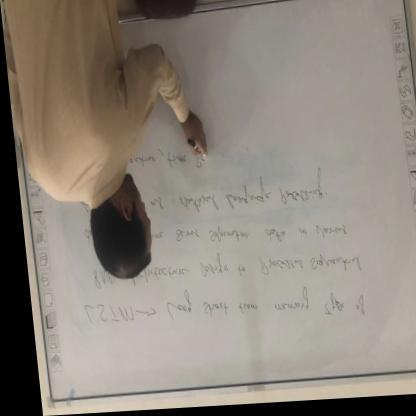Handwritten text: (75, 285, 366, 336), (164, 173, 331, 229), (167, 220, 349, 259), (189, 250, 361, 286)
Lecturer: (8, 0, 179, 284)
Whiteboard: (3, 0, 416, 407)
